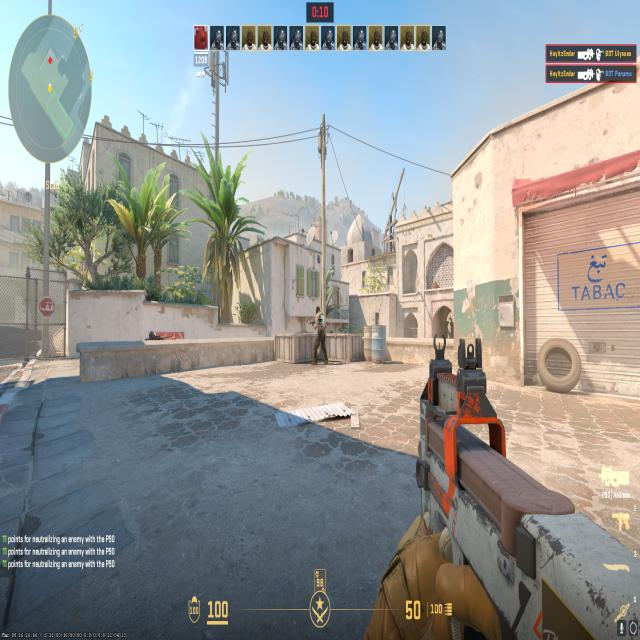ct: (145, 328, 164, 340)
t: (310, 305, 330, 372)
